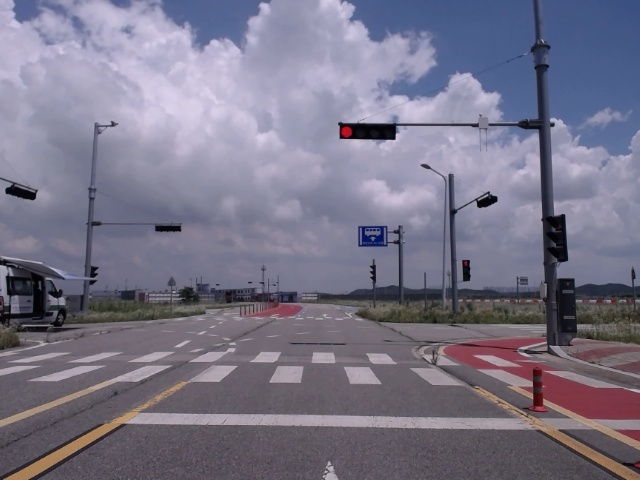red_4: (340, 125, 396, 140)
